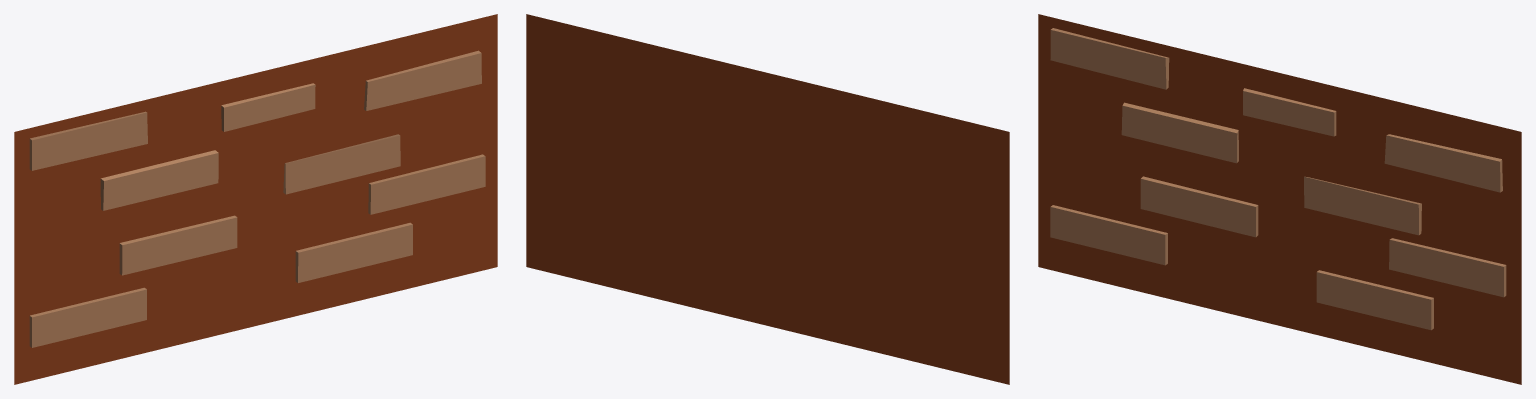
Rendered from Ext-BrickV2HalfWall.fbx.
The picture shows the model from 3 angles, left to right: view 1: azimuth 30°, elevation 25°; view 2: azimuth 150°, elevation 25°; view 3: azimuth 330°, elevation 25°; orthographic projection.
Parts seen in each view (by area): view 1: Ext-BrickV2HalfWall; view 2: Ext-BrickV2HalfWall; view 3: Ext-BrickV2HalfWall.
Boxes of the visible parts, <box> form: Ext-BrickV2HalfWall: <box>14,14,497,384</box>; Ext-BrickV2HalfWall: <box>526,14,1009,384</box>; Ext-BrickV2HalfWall: <box>1038,14,1521,384</box>.
Bounding box in the file's own units: 200 × 100 × 2.
